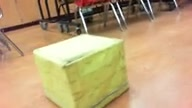cube: (33, 33, 130, 108)
